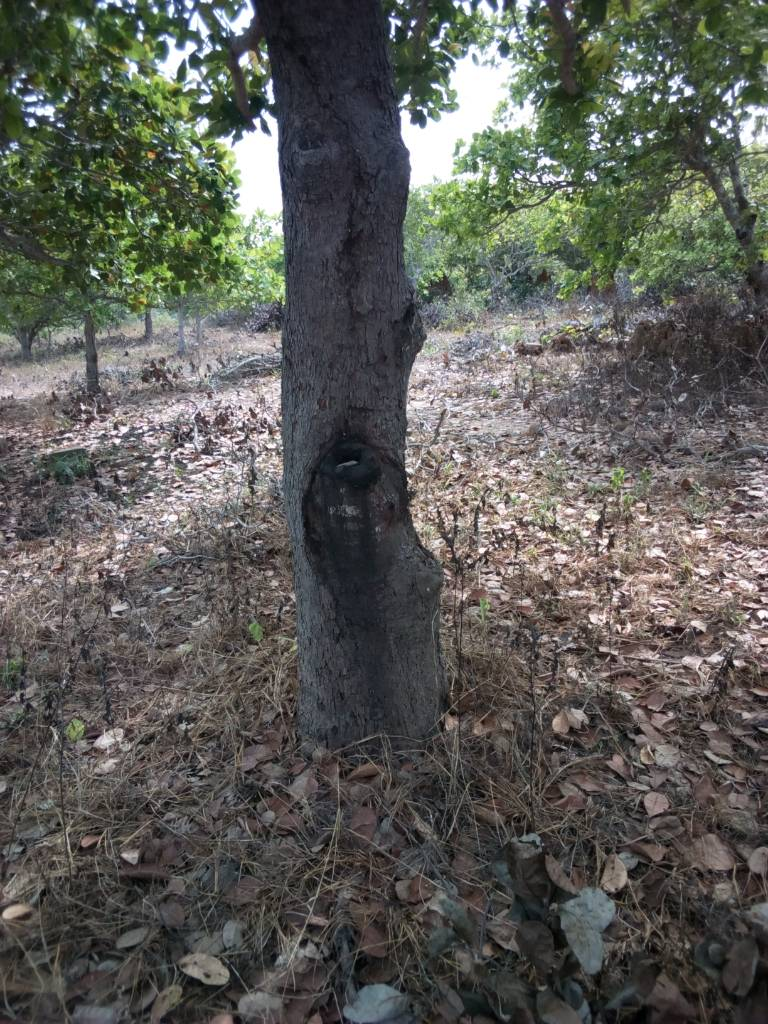Gommose: (293, 438, 404, 627)
